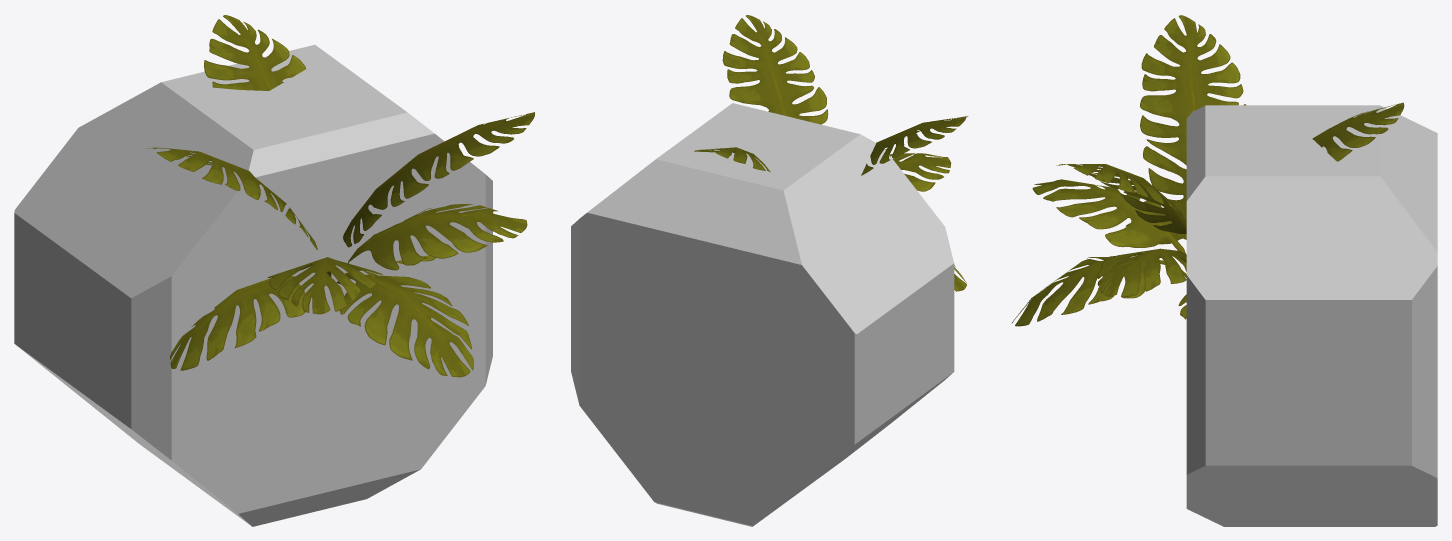
The model's file is SM_bush_02.fbx.
3 renders of one model, left to right at view 1: azimuth 30°, elevation 25°; view 2: azimuth 150°, elevation 25°; view 3: azimuth 270°, elevation 25°, orthographic. The views are drawn at different scales.
Visible parts, largest first — view 1: SM_bush_02_ConvexHulls, SM_bush_02; view 2: SM_bush_02_ConvexHulls, SM_bush_02; view 3: SM_bush_02_ConvexHulls, SM_bush_02.
Part boxes in pixels (left/top/right/bottom): SM_bush_02_ConvexHulls: left=14, top=44, right=492, bottom=526; SM_bush_02: left=145, top=15, right=534, bottom=377; SM_bush_02_ConvexHulls: left=571, top=103, right=954, bottom=526; SM_bush_02: left=694, top=15, right=968, bottom=291; SM_bush_02_ConvexHulls: left=1186, top=105, right=1437, bottom=526; SM_bush_02: left=1011, top=15, right=1404, bottom=326.
Bounding box in the file's own units: 331 × 367 × 378.
2 materials, 1 textured.
